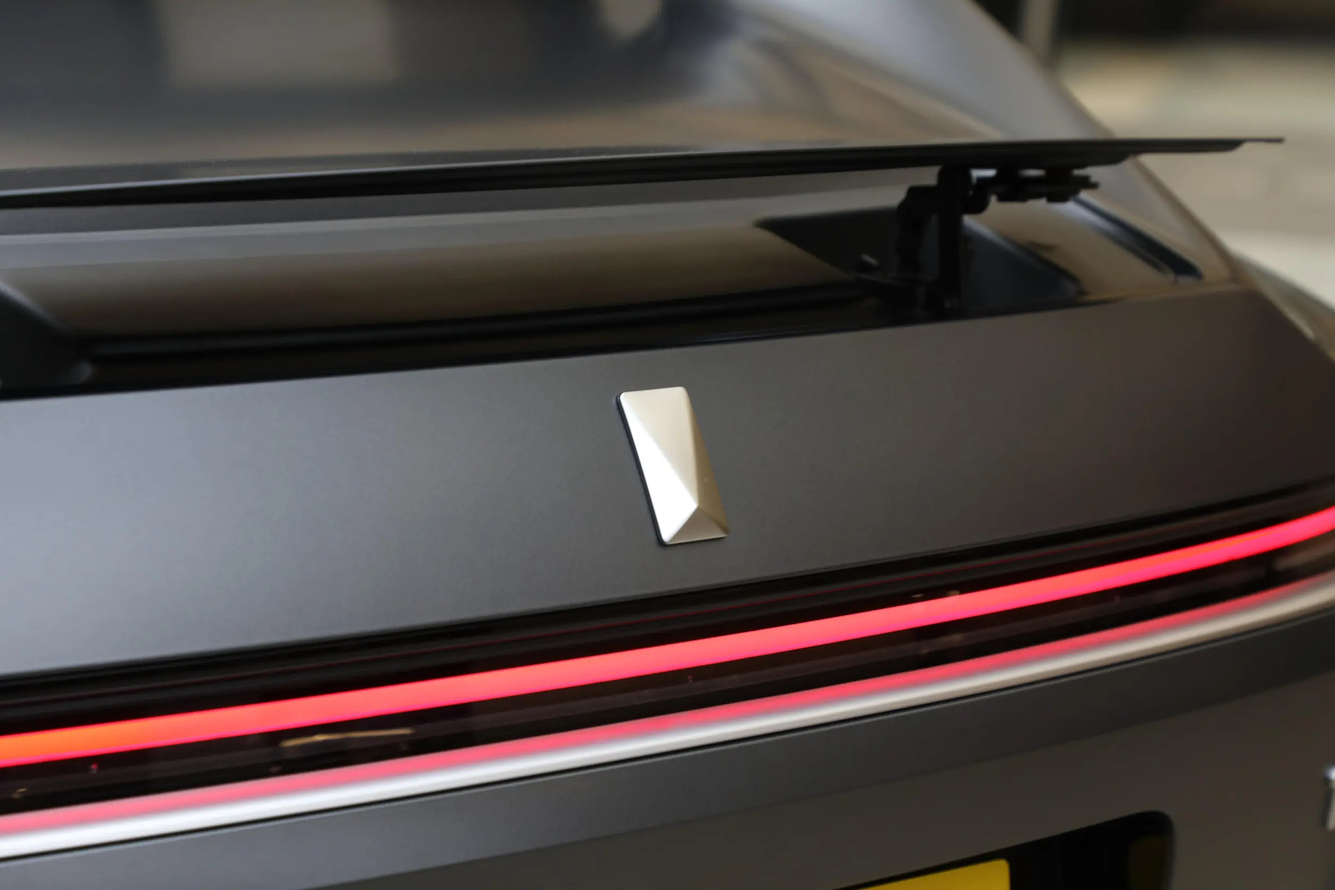AVATR: (620, 388, 727, 545)
